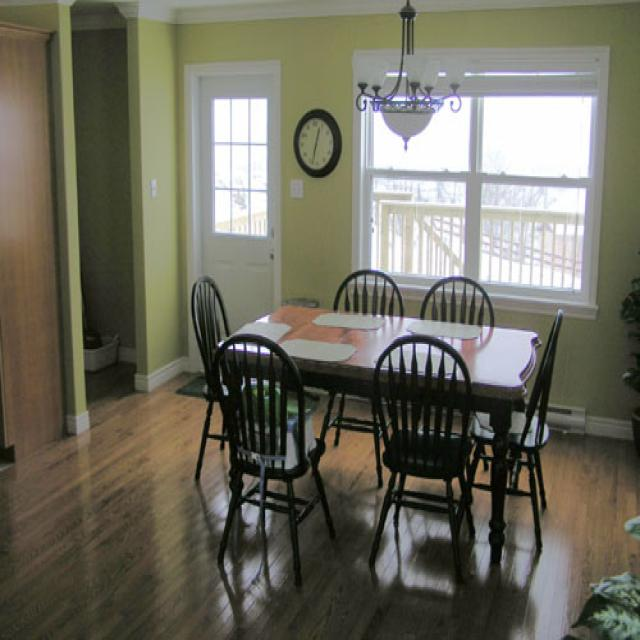chair: (210, 333, 338, 585), (454, 307, 563, 561), (370, 337, 477, 575), (312, 267, 404, 491), (192, 275, 238, 482), (420, 277, 497, 332)
diningtable: (212, 299, 544, 588)
pottedplant: (558, 515, 640, 640)
